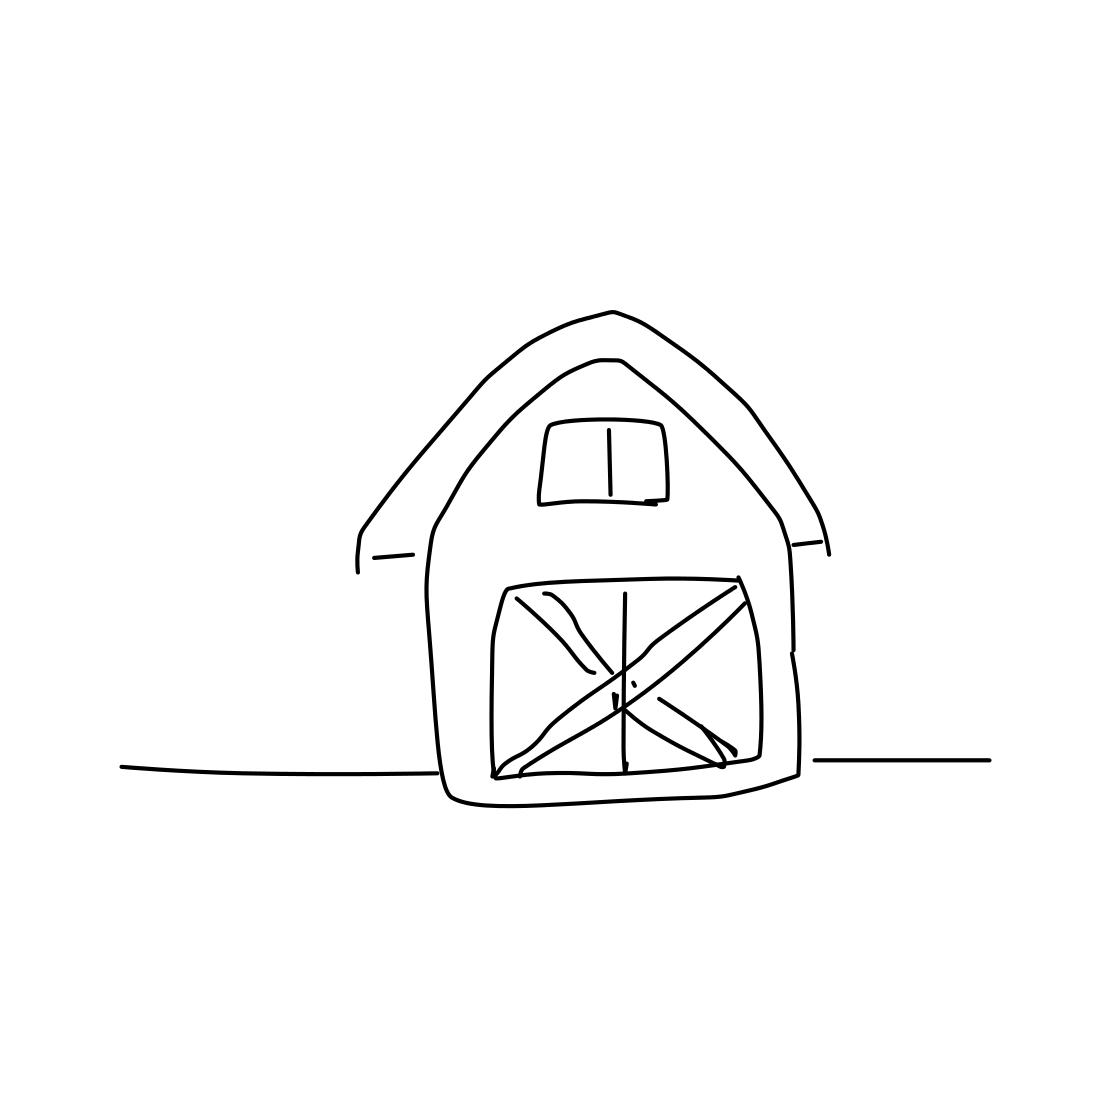House: (348, 280, 882, 829)
